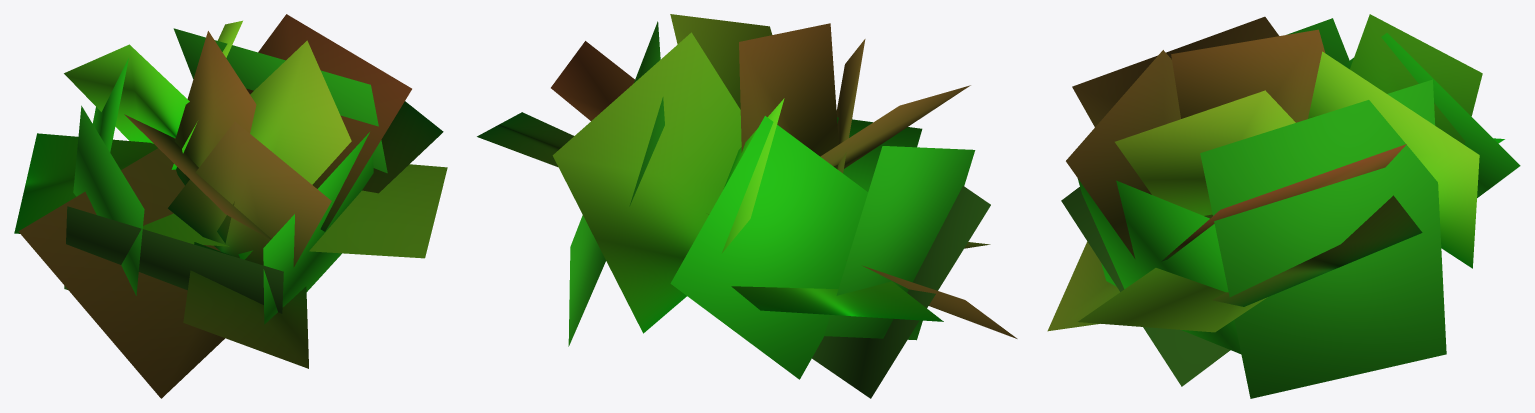
The model's file is bush3_LOD1.fbx.
3 views of the same model, side by side, from view 1: azimuth 30°, elevation 25°; view 2: azimuth 150°, elevation 25°; view 3: azimuth 270°, elevation 25° (orthographic). The views are drawn at different scales.
Parts seen in each view (by area): view 1: bush3_LOD1; view 2: bush3_LOD1; view 3: bush3_LOD1.
Part boxes in pixels (x1=…): bush3_LOD1: x1=14, y1=14, x2=447, y2=398; bush3_LOD1: x1=477, y1=14, x2=1017, y2=398; bush3_LOD1: x1=1047, y1=14, x2=1520, y2=398.
Size of the model in its own units: 223 by 156 by 193.
